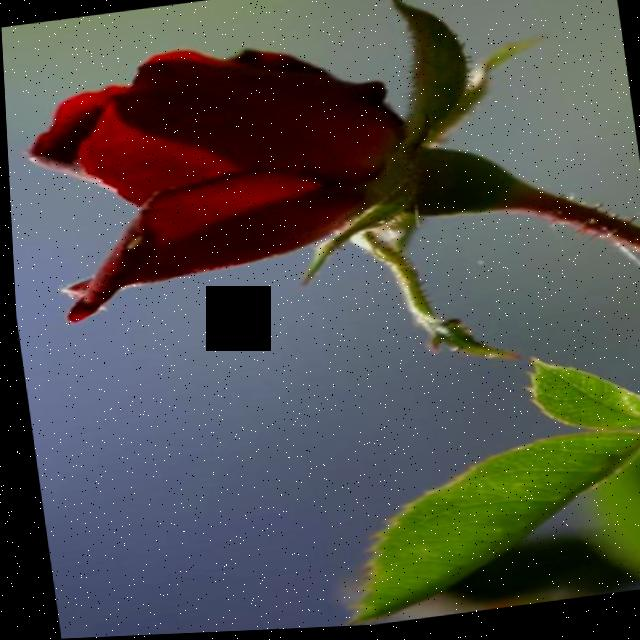rose: (11, 0, 525, 344)
